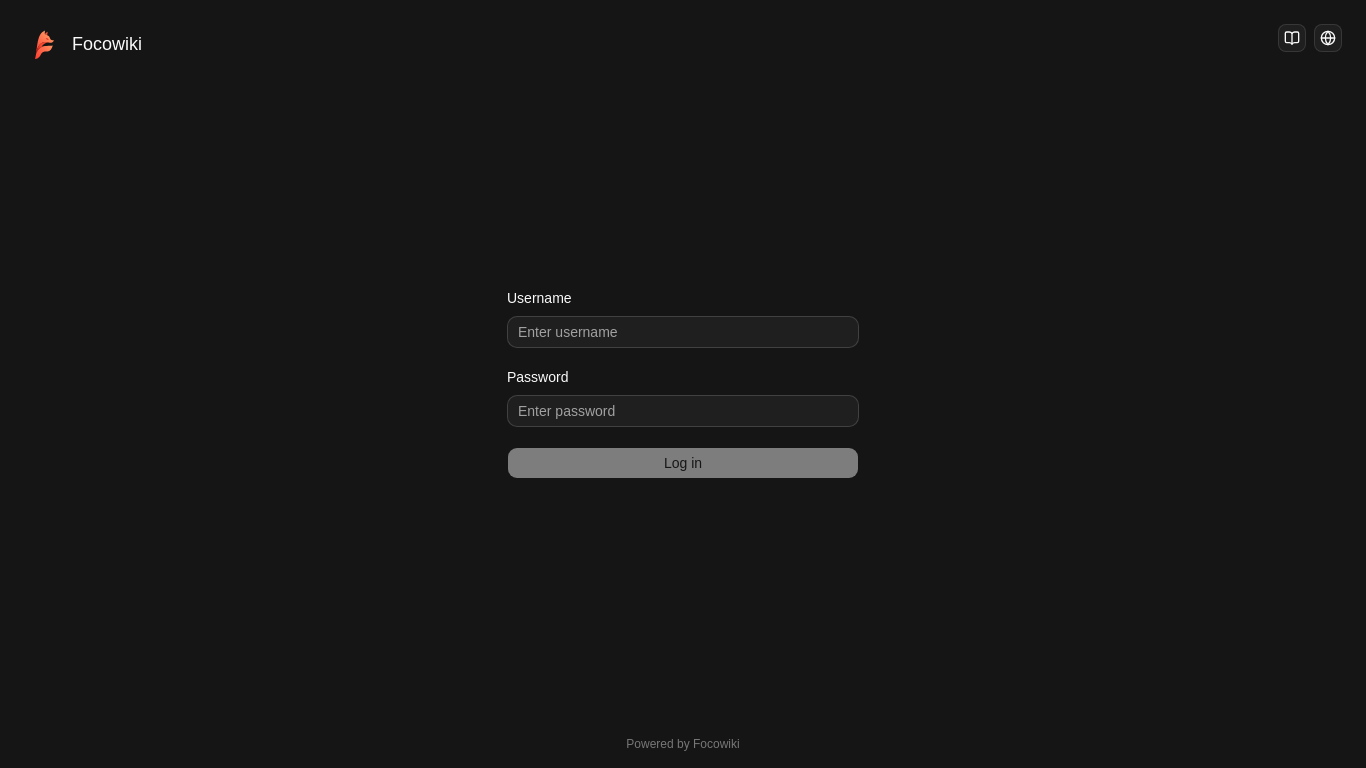
Test: Admin upload file picker › preserves nested folder paths and allows equal basenames in different directories
The image size is (1366, 768).
Step 1. Type "admin" into the field labelled "Username" → (683, 332), box x1=507 y1=316 x2=859 y2=348
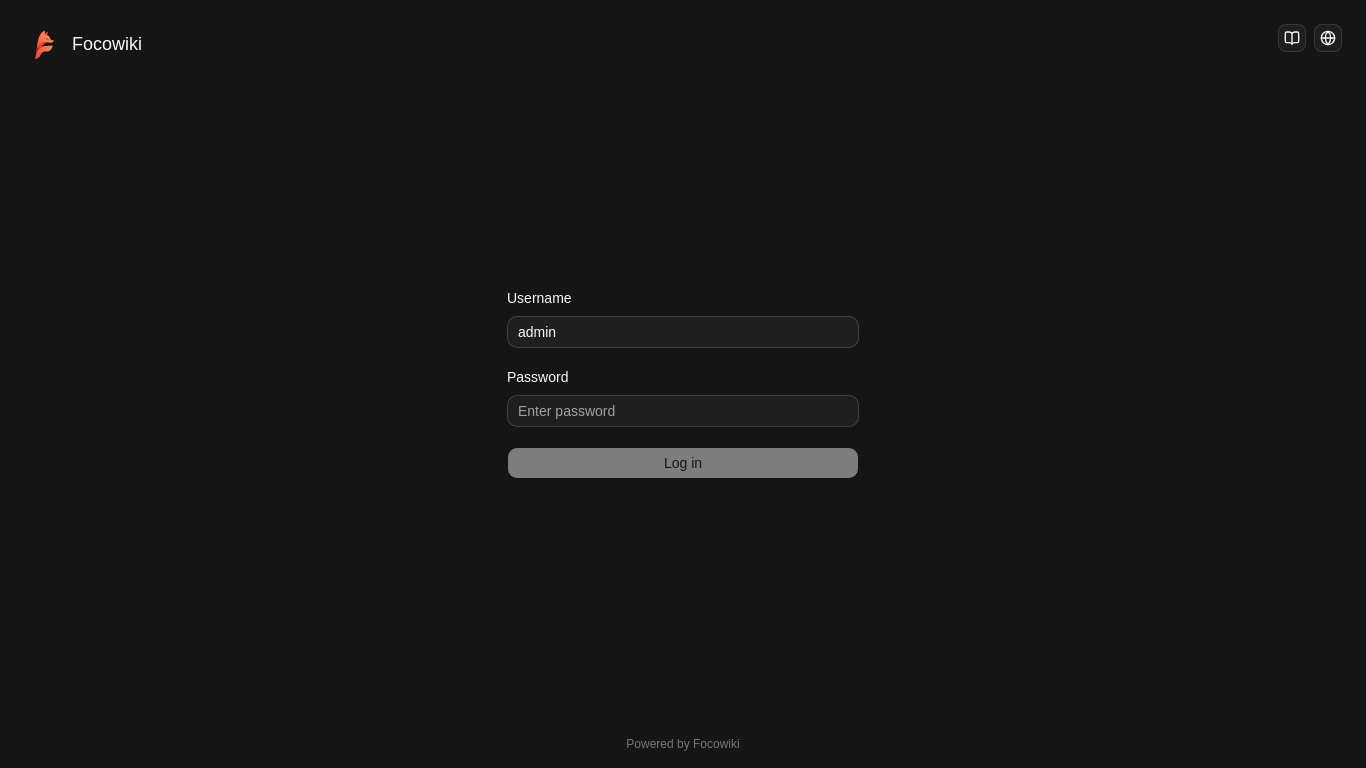
Step 2. Type "admin-secret" into the password field labelled "Password" → (683, 411), box x1=507 y1=395 x2=859 y2=427
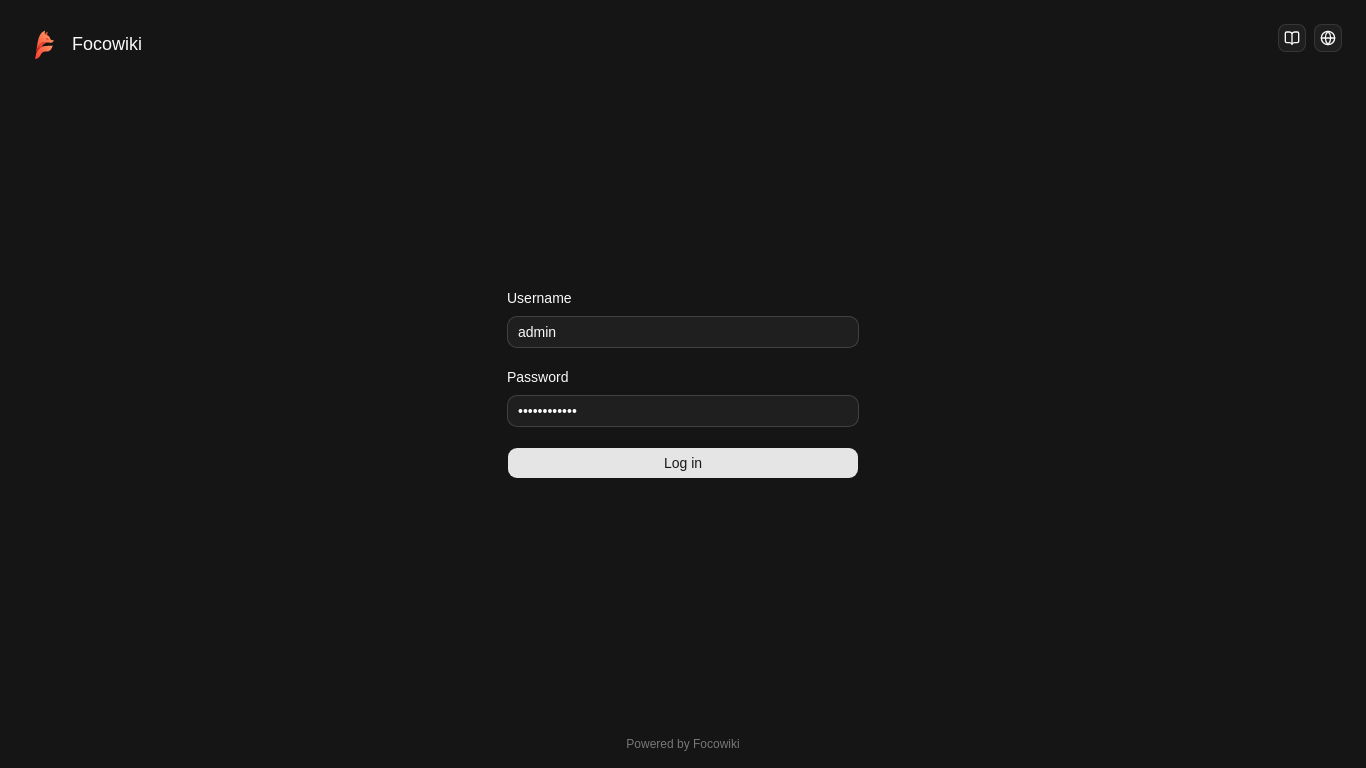
Step 3. Click the button "Log in" → (683, 463), box x1=507 y1=447 x2=859 y2=479
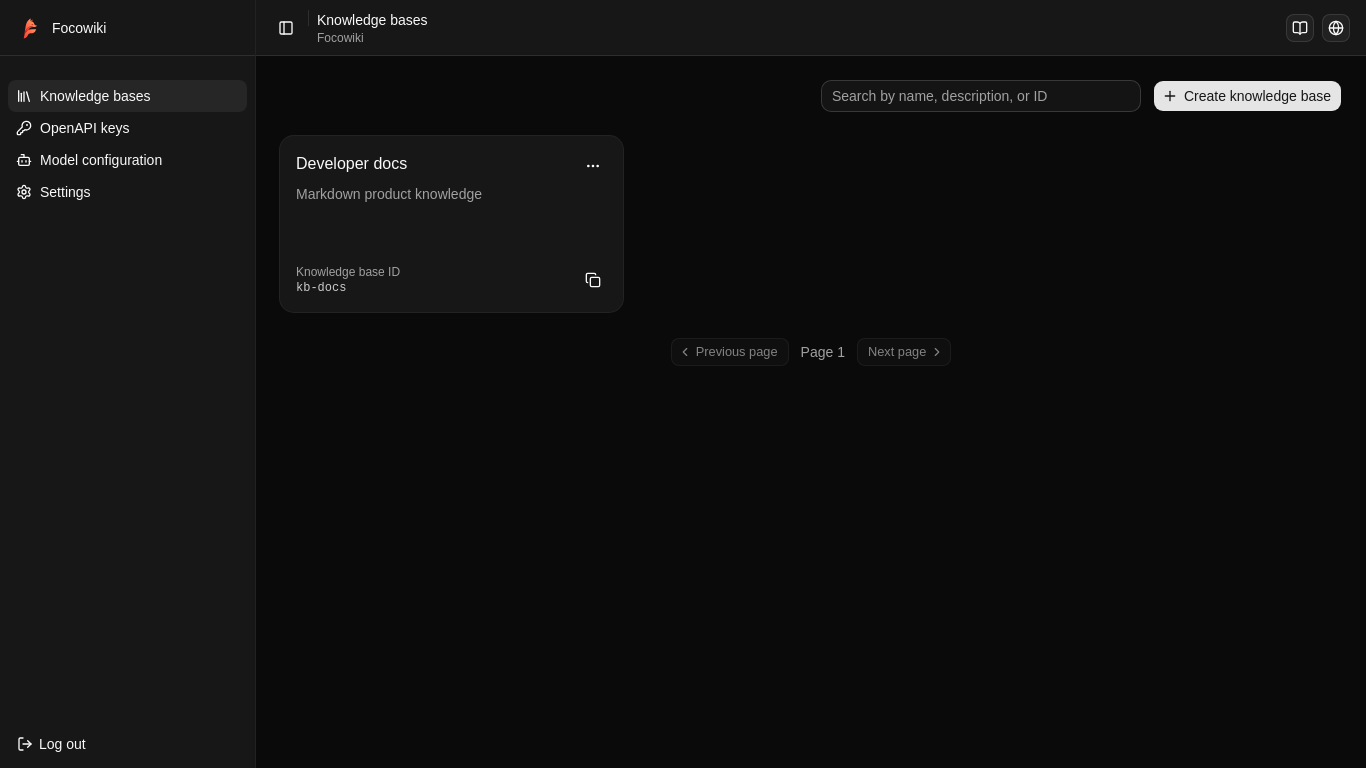
Result: the button named "Developer docs" is shown
Step 4. Click the button named "Developer docs" → (452, 224), box x1=280 y1=136 x2=623 y2=312
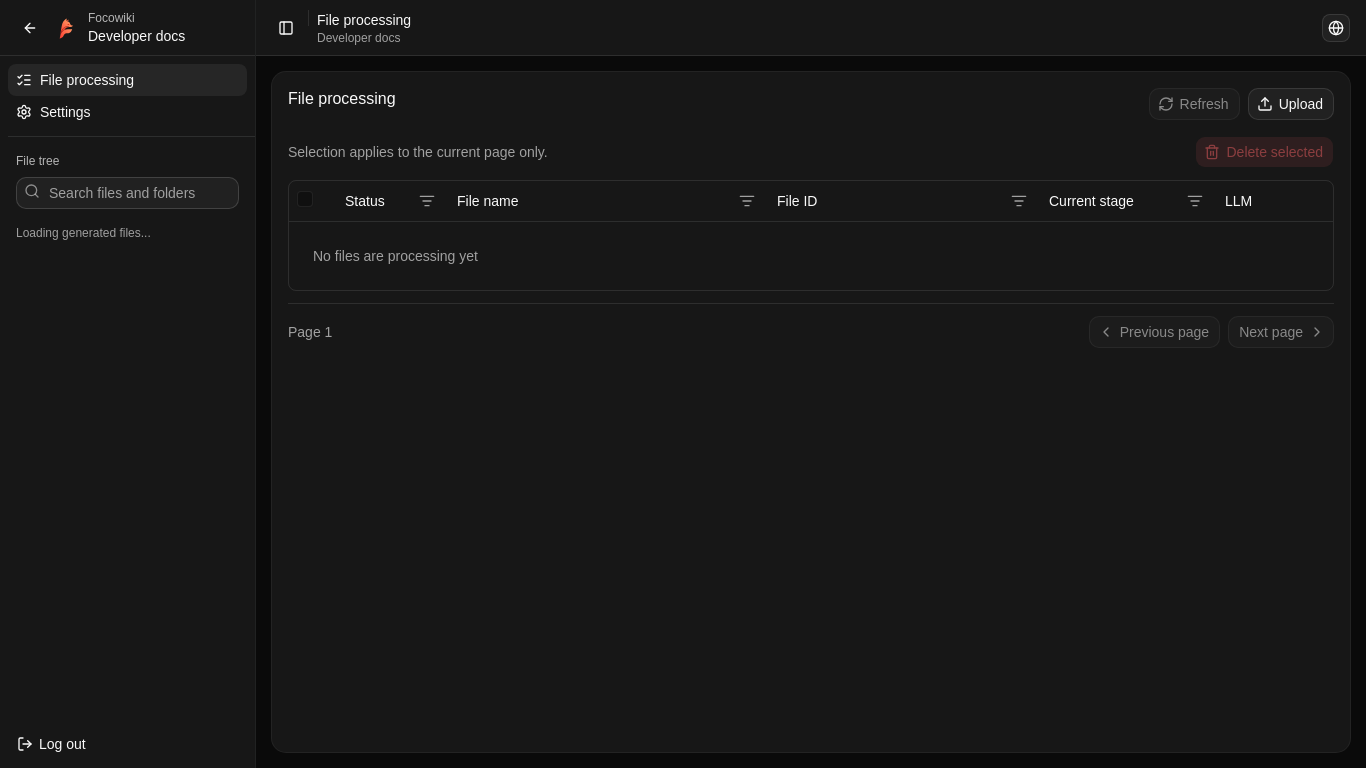
Step 5. Click the button "Upload" → (1291, 104), box x1=1248 y1=88 x2=1334 y2=120
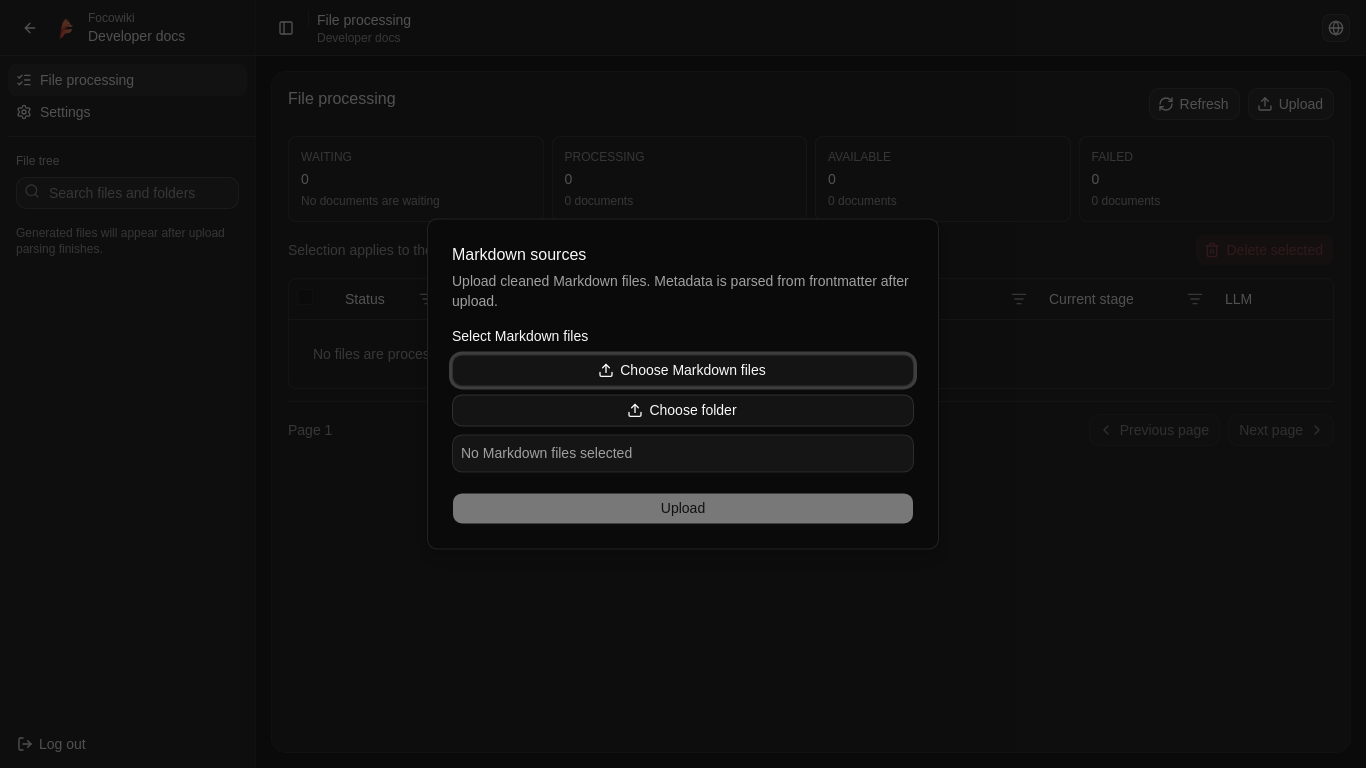
Result: the heading "Markdown sources" is shown at x1=452 y1=246 x2=586 y2=263
Step 6. Click the button "Choose folder" → (683, 411), box x1=452 y1=395 x2=914 y2=427
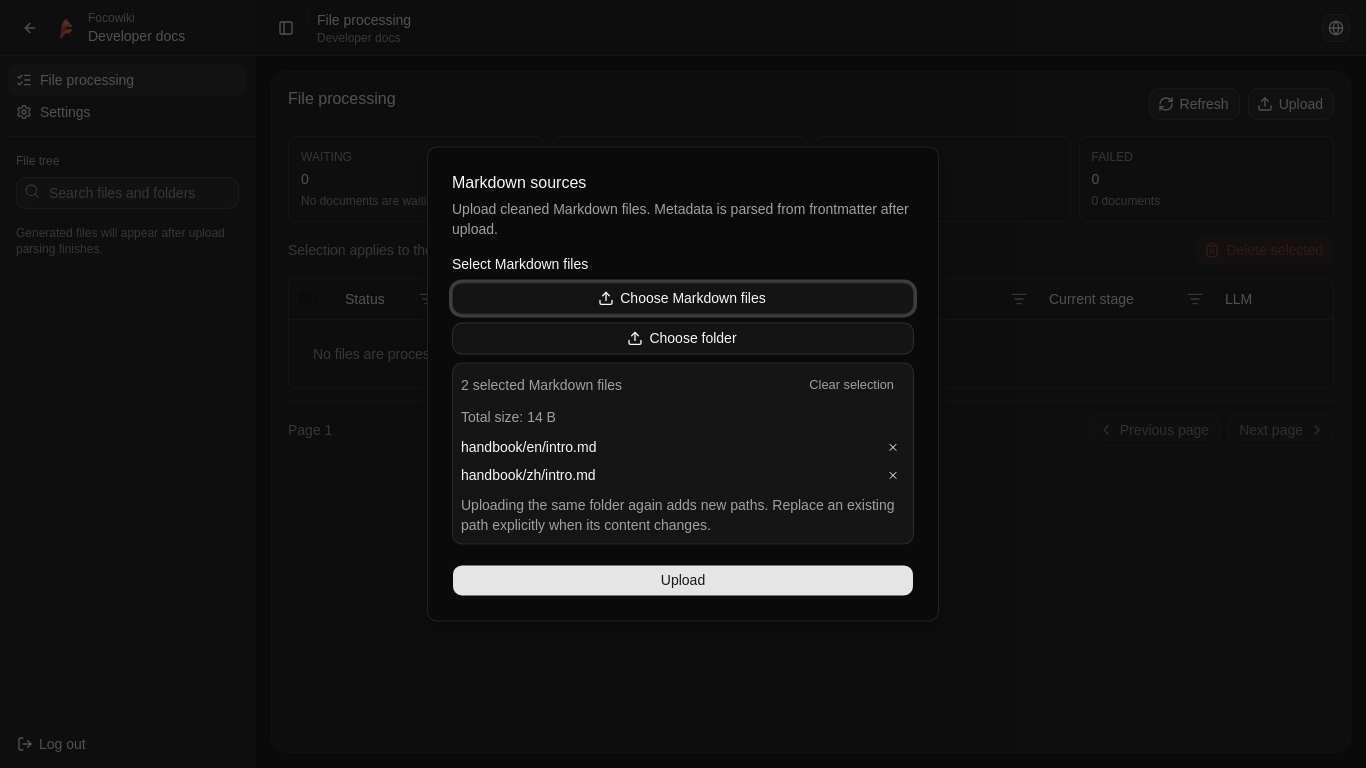
Result: the text "handbook/en/intro.md" is shown at x1=461 y1=438 x2=596 y2=458
Result: the text "handbook/zh/intro.md" is shown at x1=461 y1=466 x2=596 y2=486
Result: the button "Upload" is enabled at x1=452 y1=565 x2=914 y2=597
